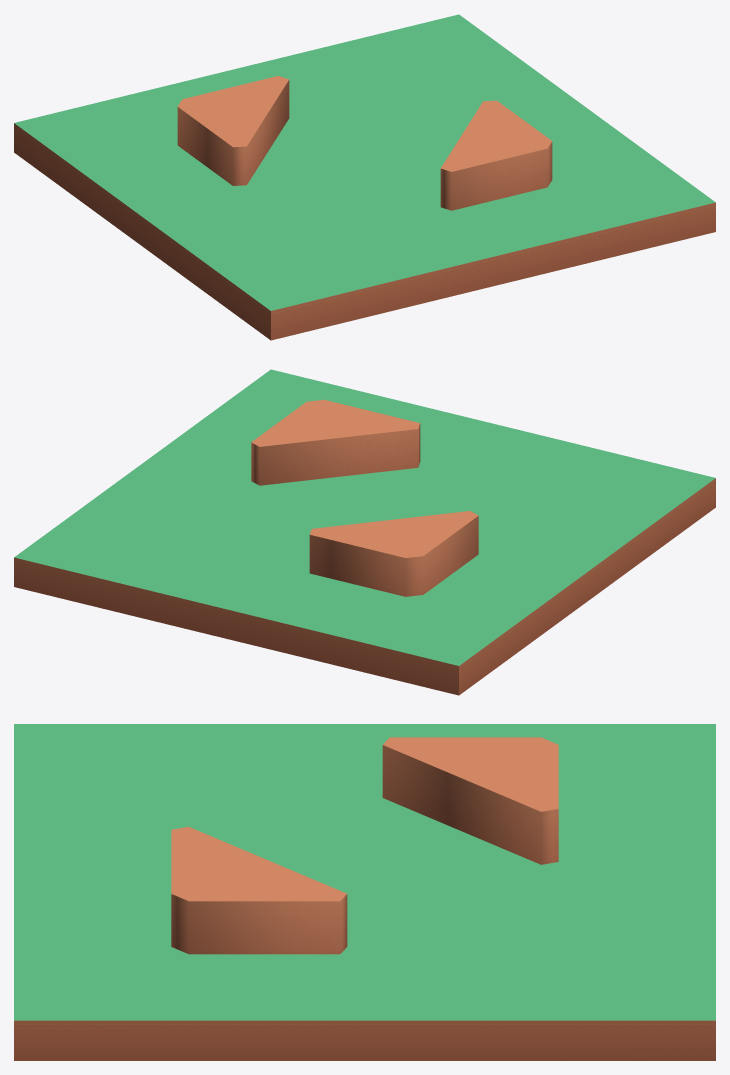
File: obstacle-triangle.glb
3 renders of one model, top to bottom at view 1: azimuth 30°, elevation 25°; view 2: azimuth 150°, elevation 25°; view 3: azimuth 270°, elevation 25°, orthographic. The views are drawn at different scales.
Visible parts, largest first — view 1: obstacle-triangle; view 2: obstacle-triangle; view 3: obstacle-triangle.
Boxes of the visible parts, x1=… form: obstacle-triangle: x1=14, y1=14, x2=715, y2=340; obstacle-triangle: x1=14, y1=369, x2=715, y2=695; obstacle-triangle: x1=14, y1=724, x2=715, y2=1060.
Size of the model in its own units: 0.9999 by 0.1467 by 0.9999.
1 material, 1 textured.
